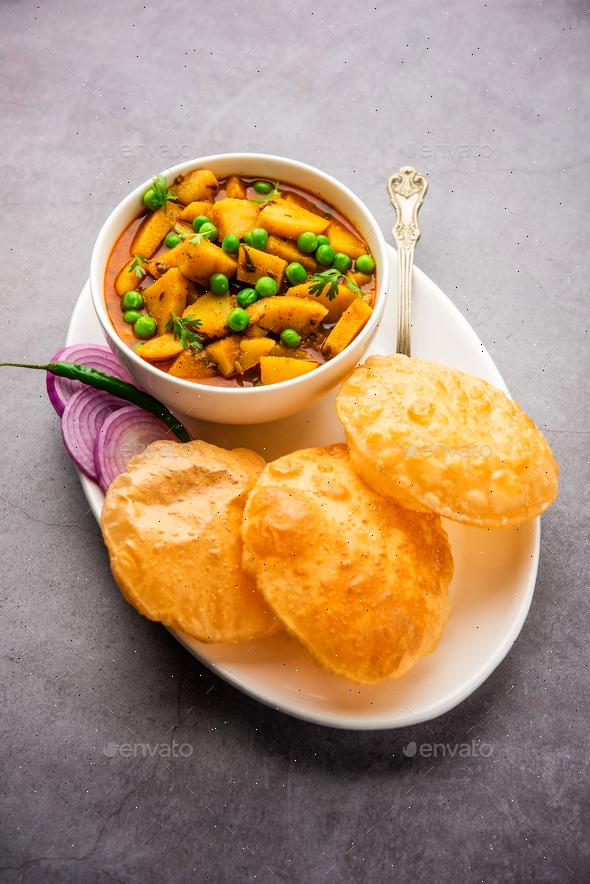puri: (93, 422, 590, 710)
